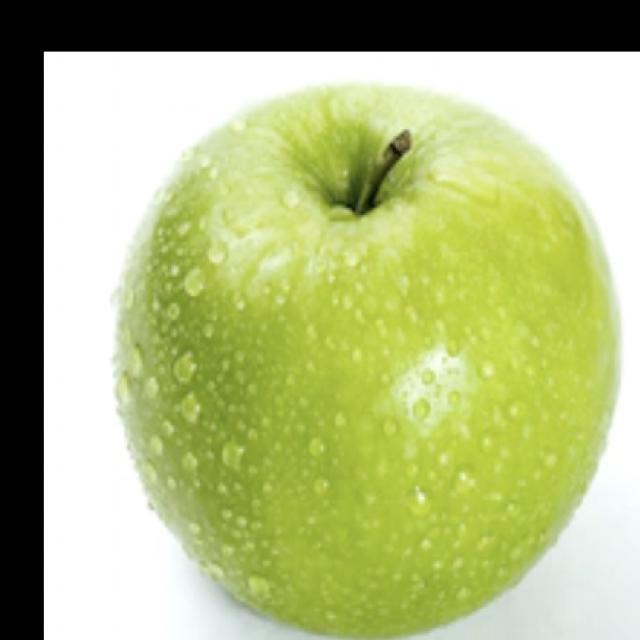Fresh Apple: (150, 106, 610, 640)
